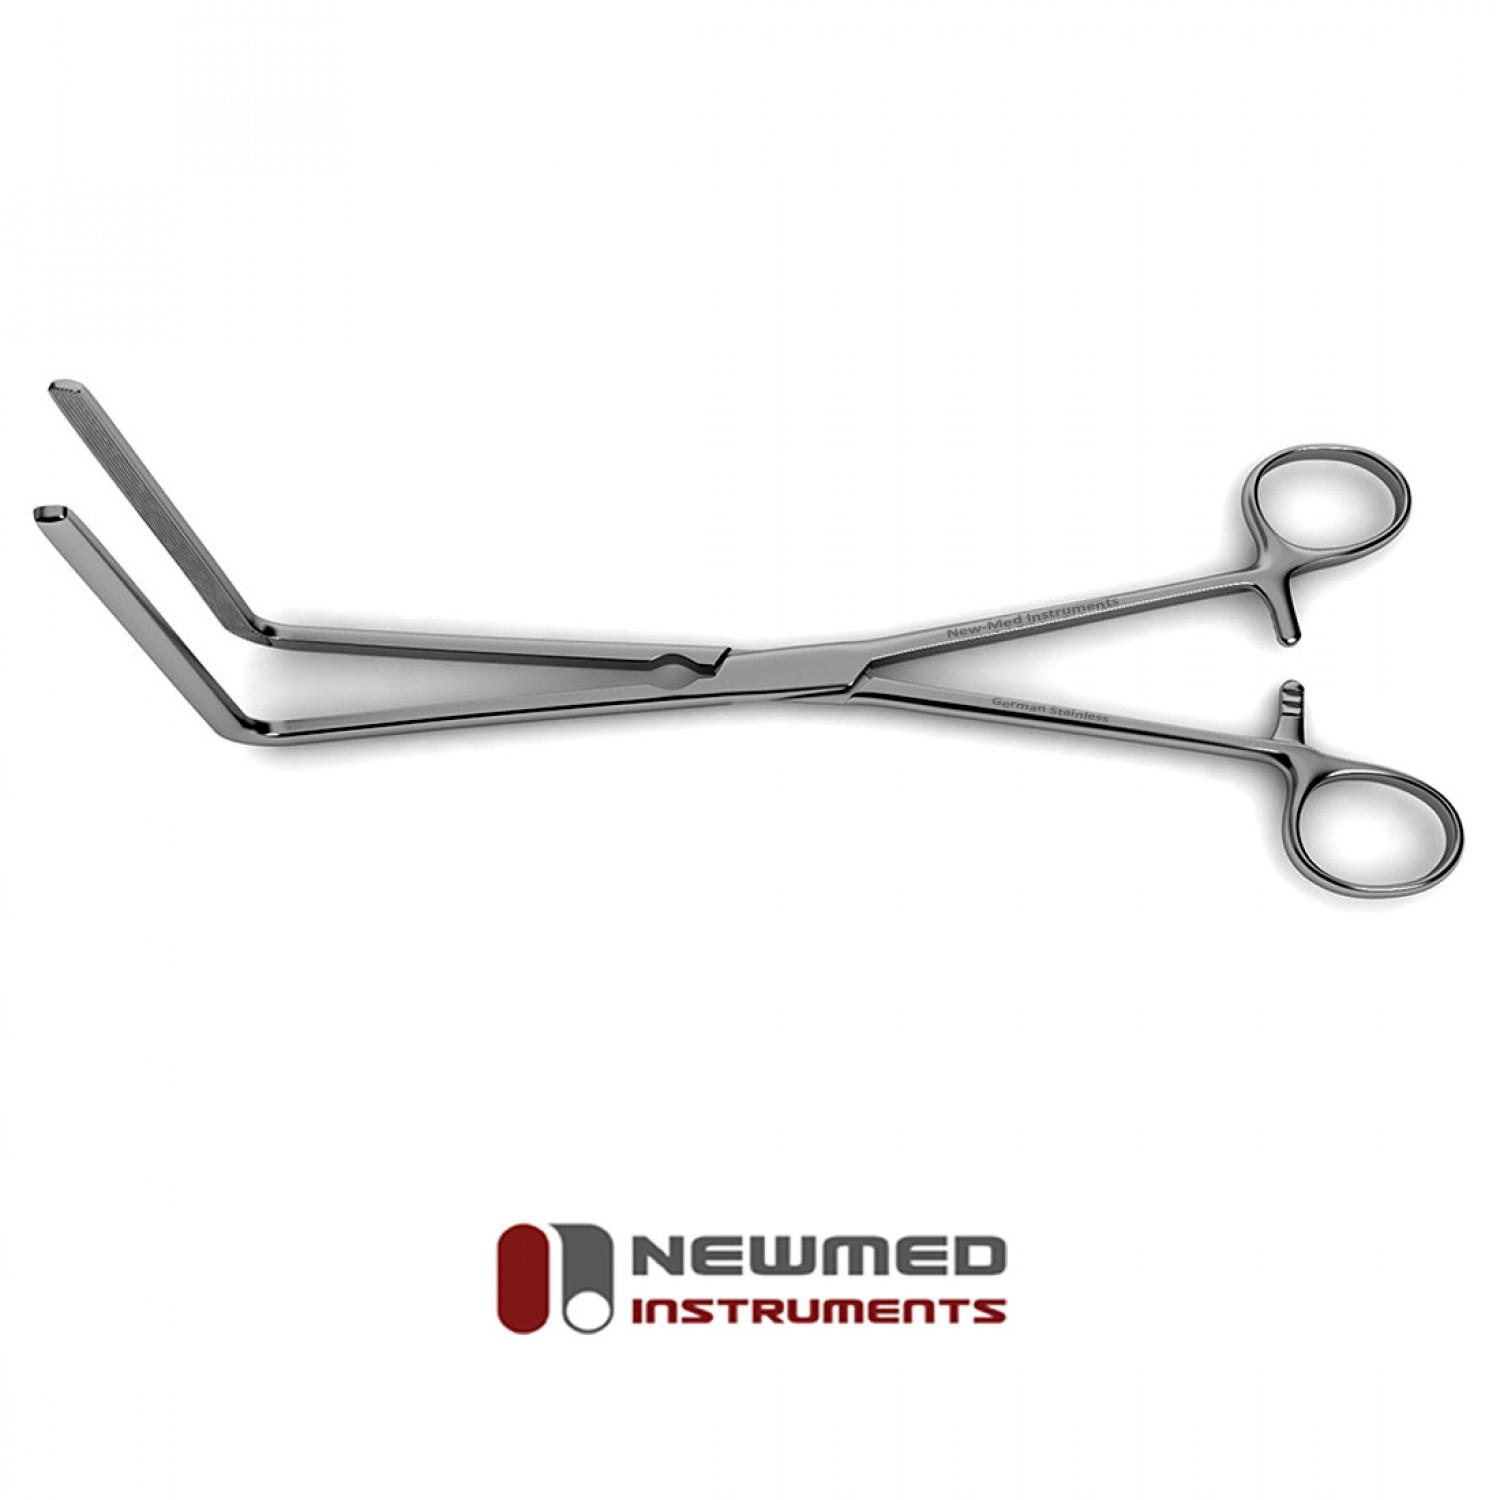Right Angle Colon Clamp: (33, 341, 1467, 930)
